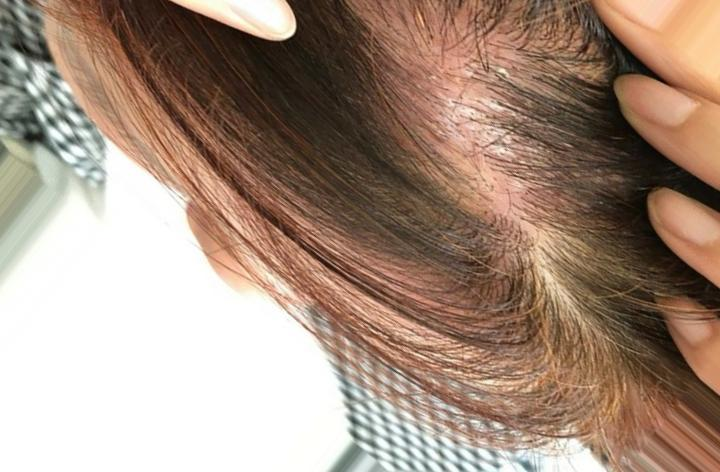Contact Dermatitis: (375, 11, 572, 253)
